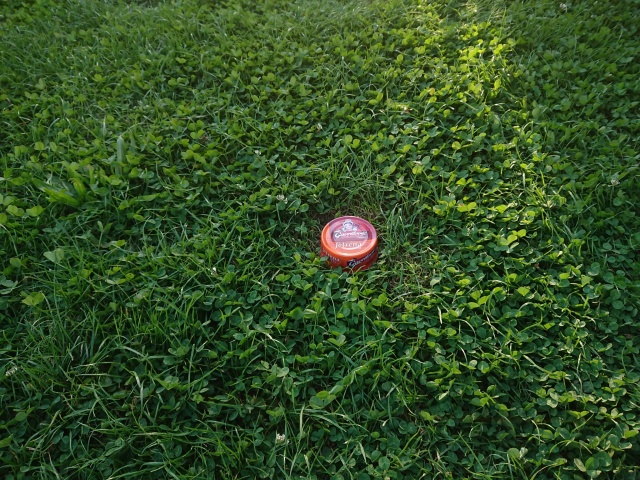Gavrilovic Pork Liver Pate 100g: (318, 213, 379, 275)
